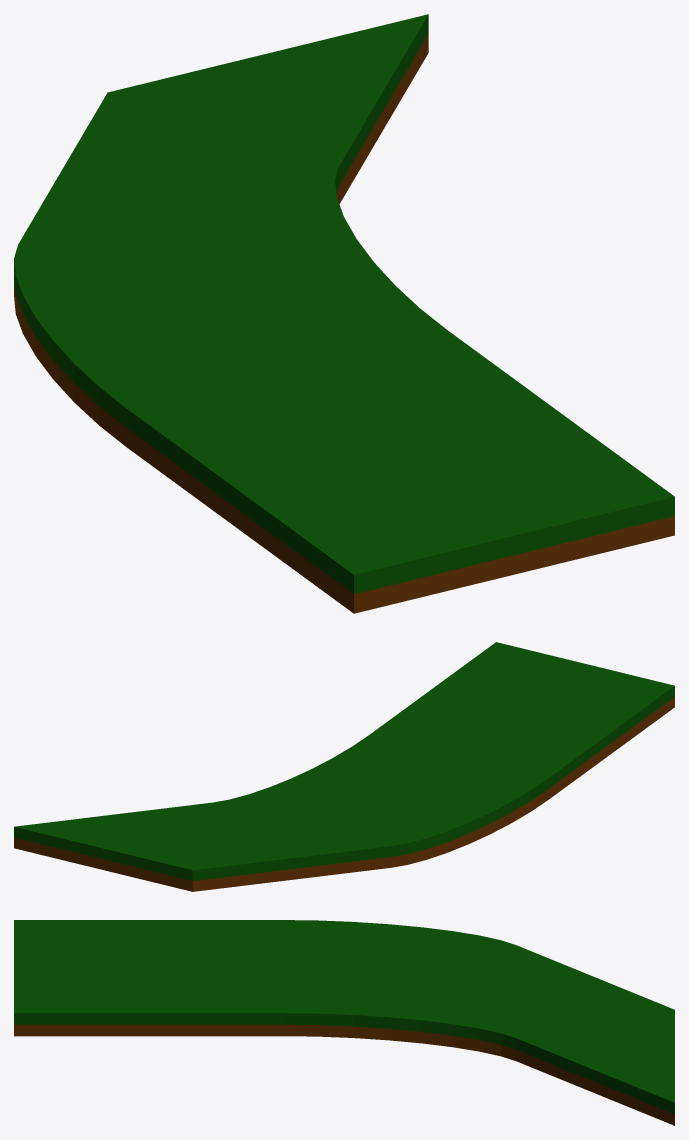
Rendered from PIEZA ESCENARIO 6.fbx.
3 views of the same model, one above another, from view 1: azimuth 30°, elevation 25°; view 2: azimuth 150°, elevation 25°; view 3: azimuth 270°, elevation 25° (orthographic). The views are drawn at different scales.
Visible parts, largest first — view 1: Suelo 1.021; view 2: Suelo 1.021; view 3: Suelo 1.021.
Boxes of the visible parts, left/top/right/bottom form: Suelo 1.021: left=14, top=14, right=674, bottom=613; Suelo 1.021: left=14, top=642, right=674, bottom=891; Suelo 1.021: left=14, top=920, right=674, bottom=1125.
Size of the model in its own units: 2778 by 163 by 4243.
